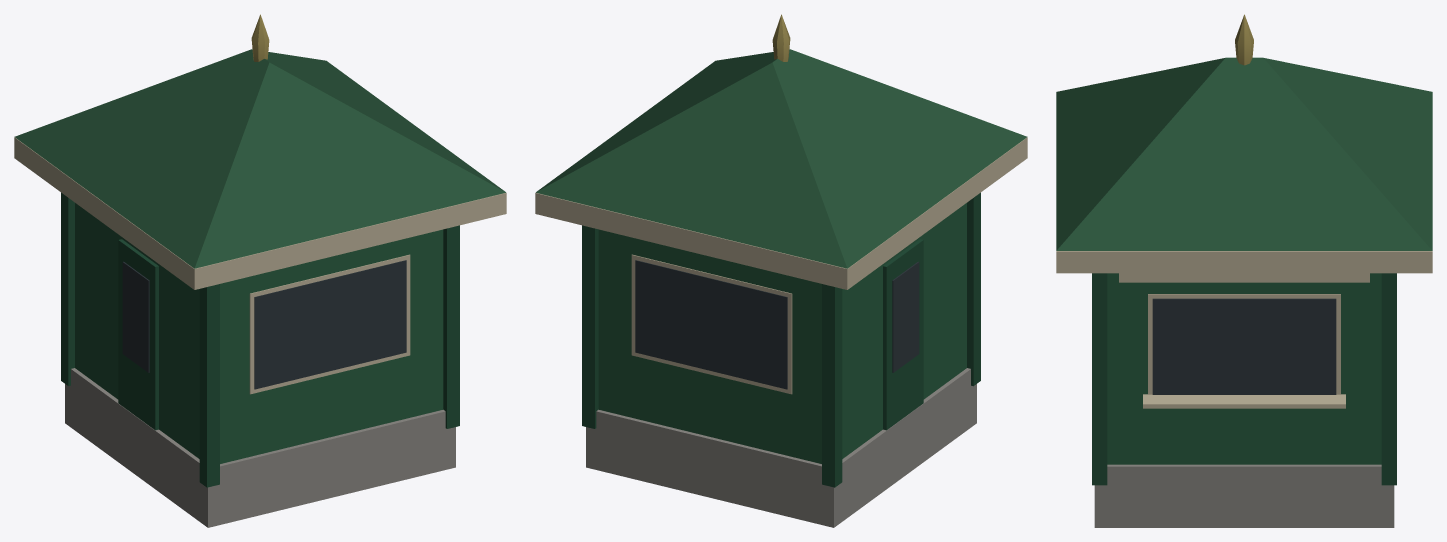
Rendered from SM_Prop_cafe_building_1_LOD1.glb.
The picture shows the model from 3 angles, left to right: view 1: azimuth 30°, elevation 25°; view 2: azimuth 150°, elevation 25°; view 3: azimuth 270°, elevation 25°; orthographic projection. The views are drawn at different scales.
Parts seen in each view (by area): view 1: SM_Prop_cafe_building_1_LOD1; view 2: SM_Prop_cafe_building_1_LOD1; view 3: SM_Prop_cafe_building_1_LOD1.
Boxes of the visible parts, x1=… form: SM_Prop_cafe_building_1_LOD1: x1=14, y1=14, x2=506, y2=527; SM_Prop_cafe_building_1_LOD1: x1=535, y1=14, x2=1027, y2=527; SM_Prop_cafe_building_1_LOD1: x1=1056, y1=14, x2=1432, y2=527.
Size of the model in its own units: 3.9 by 5.15 by 3.9.
